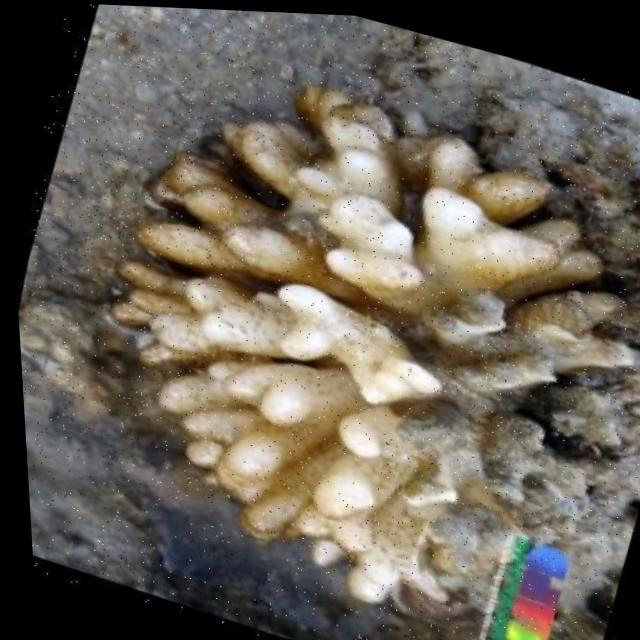Bleached Coral: (42, 38, 613, 640)
